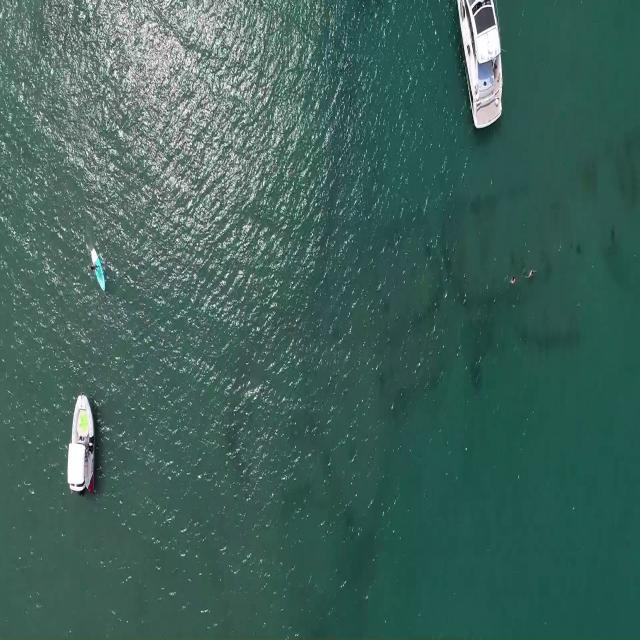boat: (456, 0, 505, 130), (65, 384, 97, 502)
person: (525, 268, 539, 282), (88, 260, 100, 274), (510, 275, 518, 285)
surfboard: (90, 245, 105, 295)
